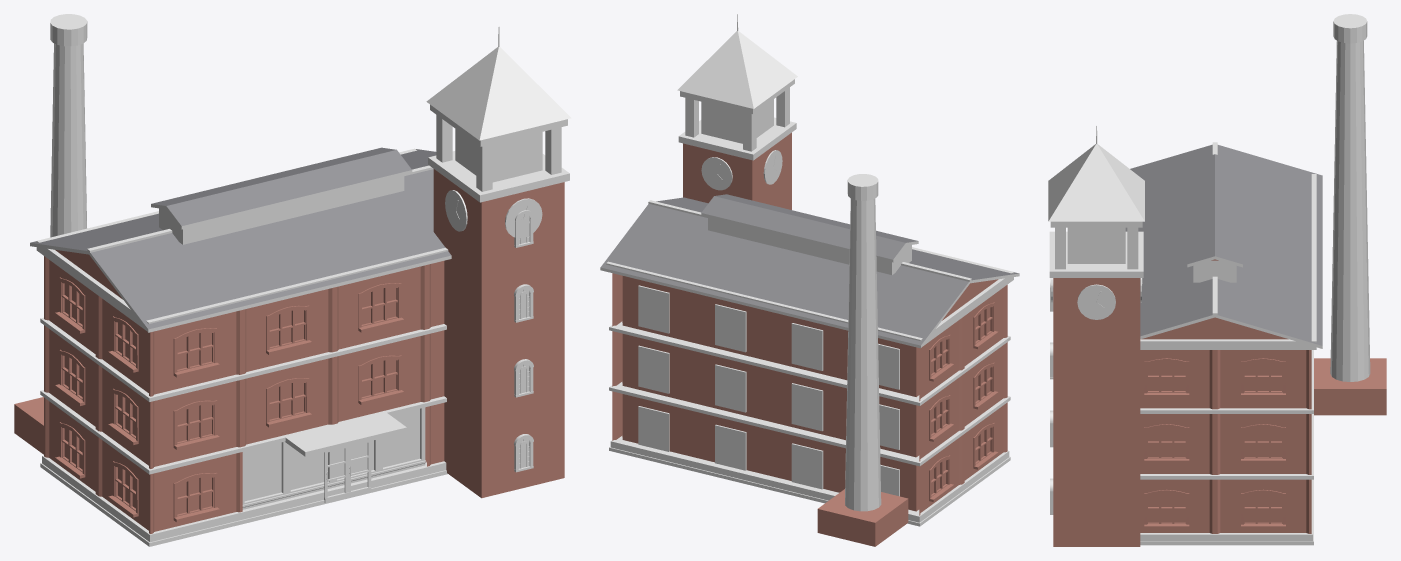
Rendered from lm_lambda.full.glb.
The picture shows the model from 3 angles, left to right: view 1: azimuth 30°, elevation 25°; view 2: azimuth 150°, elevation 25°; view 3: azimuth 270°, elevation 25°; orthographic projection. The views are drawn at different scales.
Visible parts, largest first — view 1: lm_lambda; view 2: lm_lambda; view 3: lm_lambda.
Part boxes in pixels (x1,y1,x2,y2): lm_lambda: (14, 14, 571, 546); lm_lambda: (600, 14, 1019, 546); lm_lambda: (1048, 14, 1386, 546).
Size of the model in its own units: 29.71 by 32.31 by 24.5.
